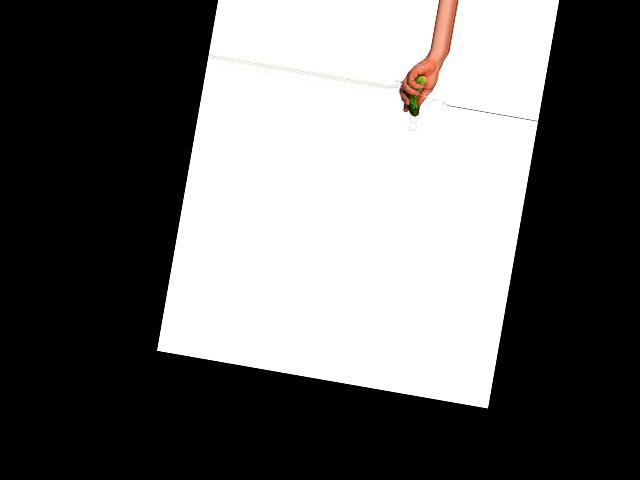cucumber: (404, 73, 426, 117)
